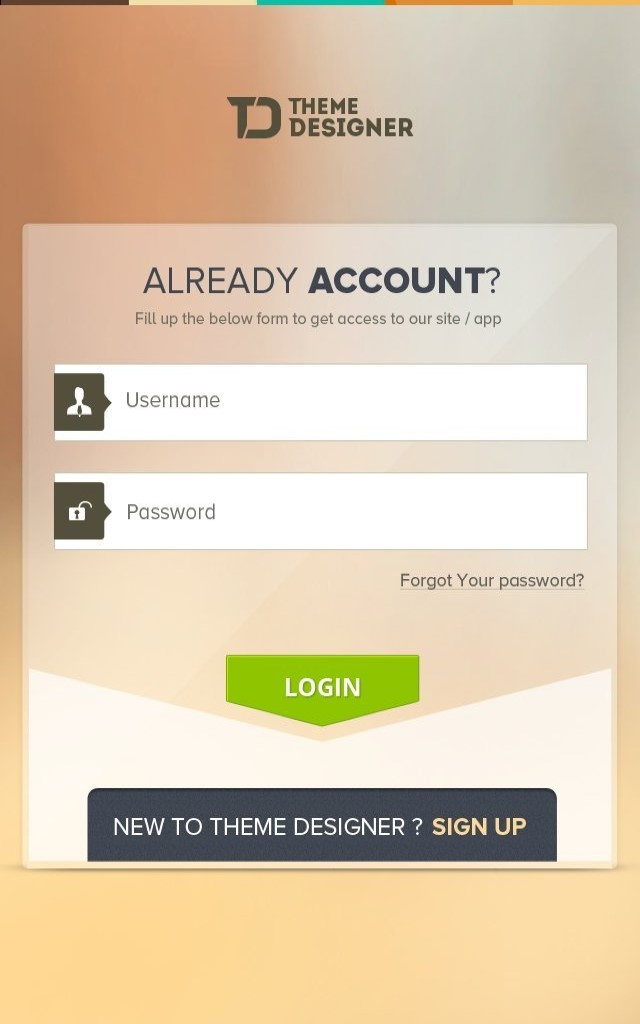button: (227, 657, 420, 725)
button_login: (227, 657, 419, 727)
label_Login: (280, 674, 367, 703)
label_Username: (120, 382, 228, 416)
label_password: (122, 499, 225, 527)
textbox: (103, 469, 588, 549), (106, 364, 584, 436)
textbox_Password: (103, 471, 589, 550)
textbox_username: (106, 364, 584, 441)
